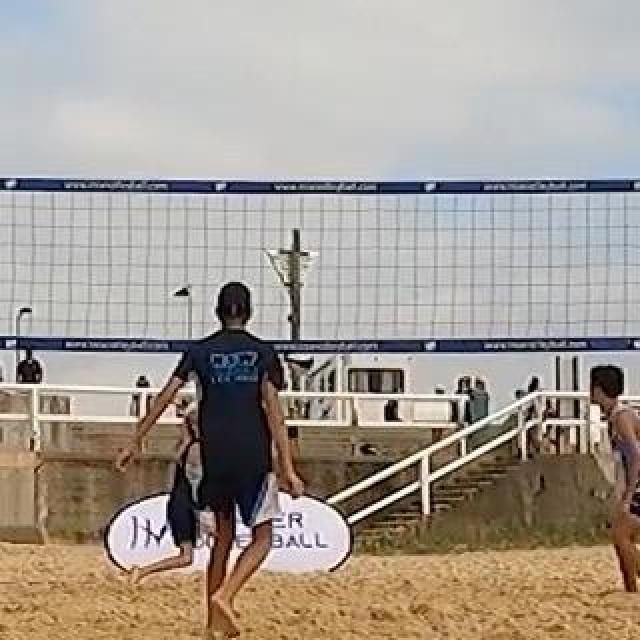volleyball: (283, 347, 315, 375)
